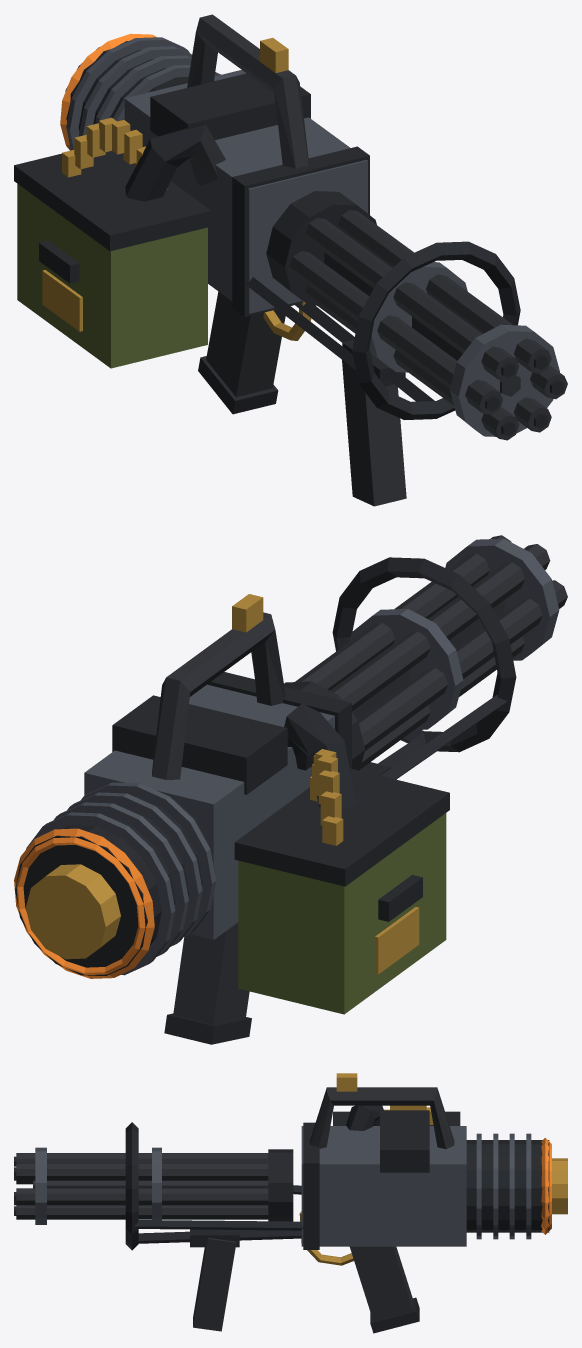
File: Gatling.obj
3 views of the same model, one above another, from view 1: azimuth 30°, elevation 25°; view 2: azimuth 150°, elevation 25°; view 3: azimuth 270°, elevation 25° (orthographic). The views are drawn at different scales.
Parts seen in each view (by area): view 1: Gatling; view 2: Gatling; view 3: Gatling.
Boxes of the visible parts, x1,y1,x2,y2 form: Gatling: [14, 14, 567, 506]; Gatling: [14, 535, 567, 1044]; Gatling: [14, 1073, 567, 1333].
Size of the model in its own units: 0.247 by 0.3352 by 0.6705.
